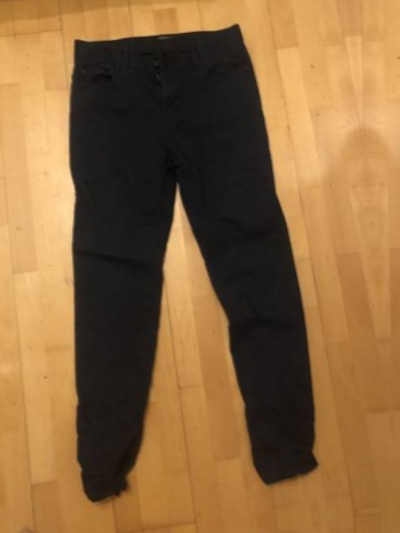Pants: (14, 0, 353, 509), (394, 0, 400, 471)
